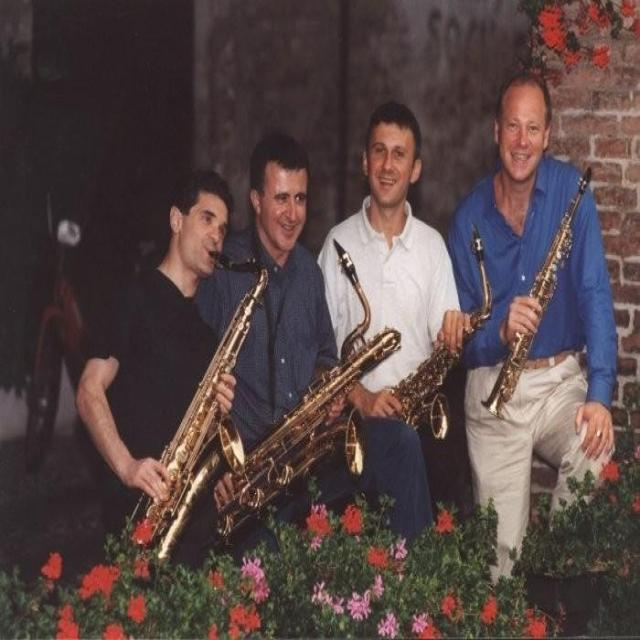saxophone: (205, 237, 404, 545), (125, 248, 276, 558), (390, 218, 499, 436)
